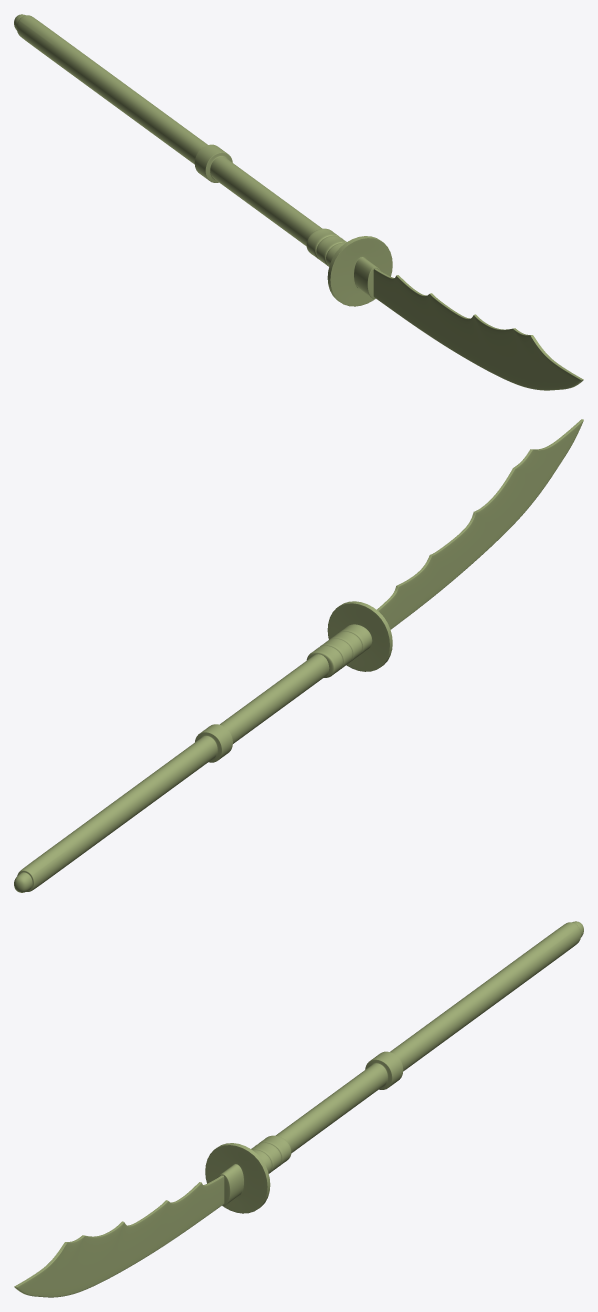
3 views of the same model, one above another, from view 1: azimuth 30°, elevation 25°; view 2: azimuth 150°, elevation 25°; view 3: azimuth 330°, elevation 25° (orthographic).
Visible parts, largest first — view 1: Cable, Blade; view 2: Cable, Blade; view 3: Cable, Blade.
Part boxes in pixels (<box>): Cable: <box>14,14,392,306</box>; Blade: <box>373,268,583,390</box>; Cable: <box>14,601,392,892</box>; Blade: <box>377,419,583,629</box>; Cable: <box>205,921,583,1213</box>; Blade: <box>14,1175,224,1297</box>.
Size of the model in its own units: 1.24 by 1.81 by 19.47.
